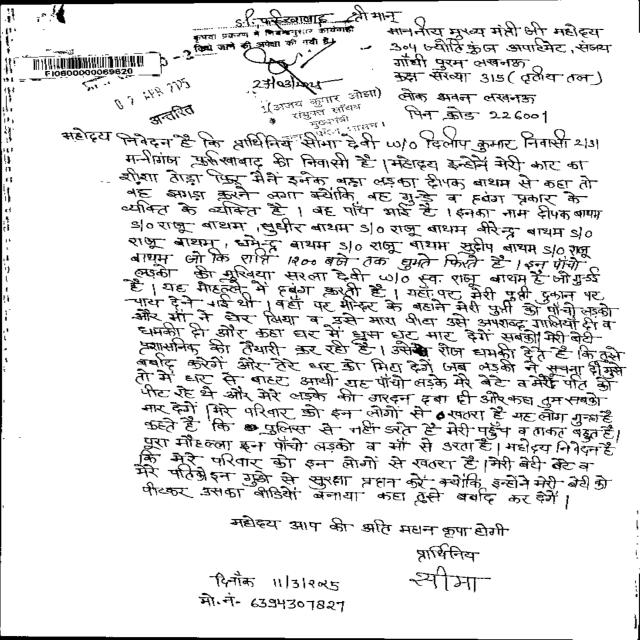antritgovtstamp: (56, 50, 205, 127)
barcode: (14, 52, 166, 79)
signnamestamp: (236, 46, 390, 138)
